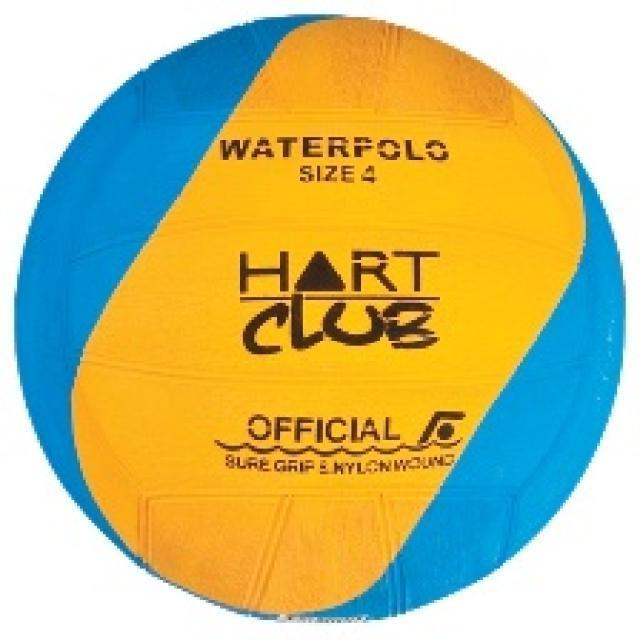volleyball: (13, 16, 624, 622)
